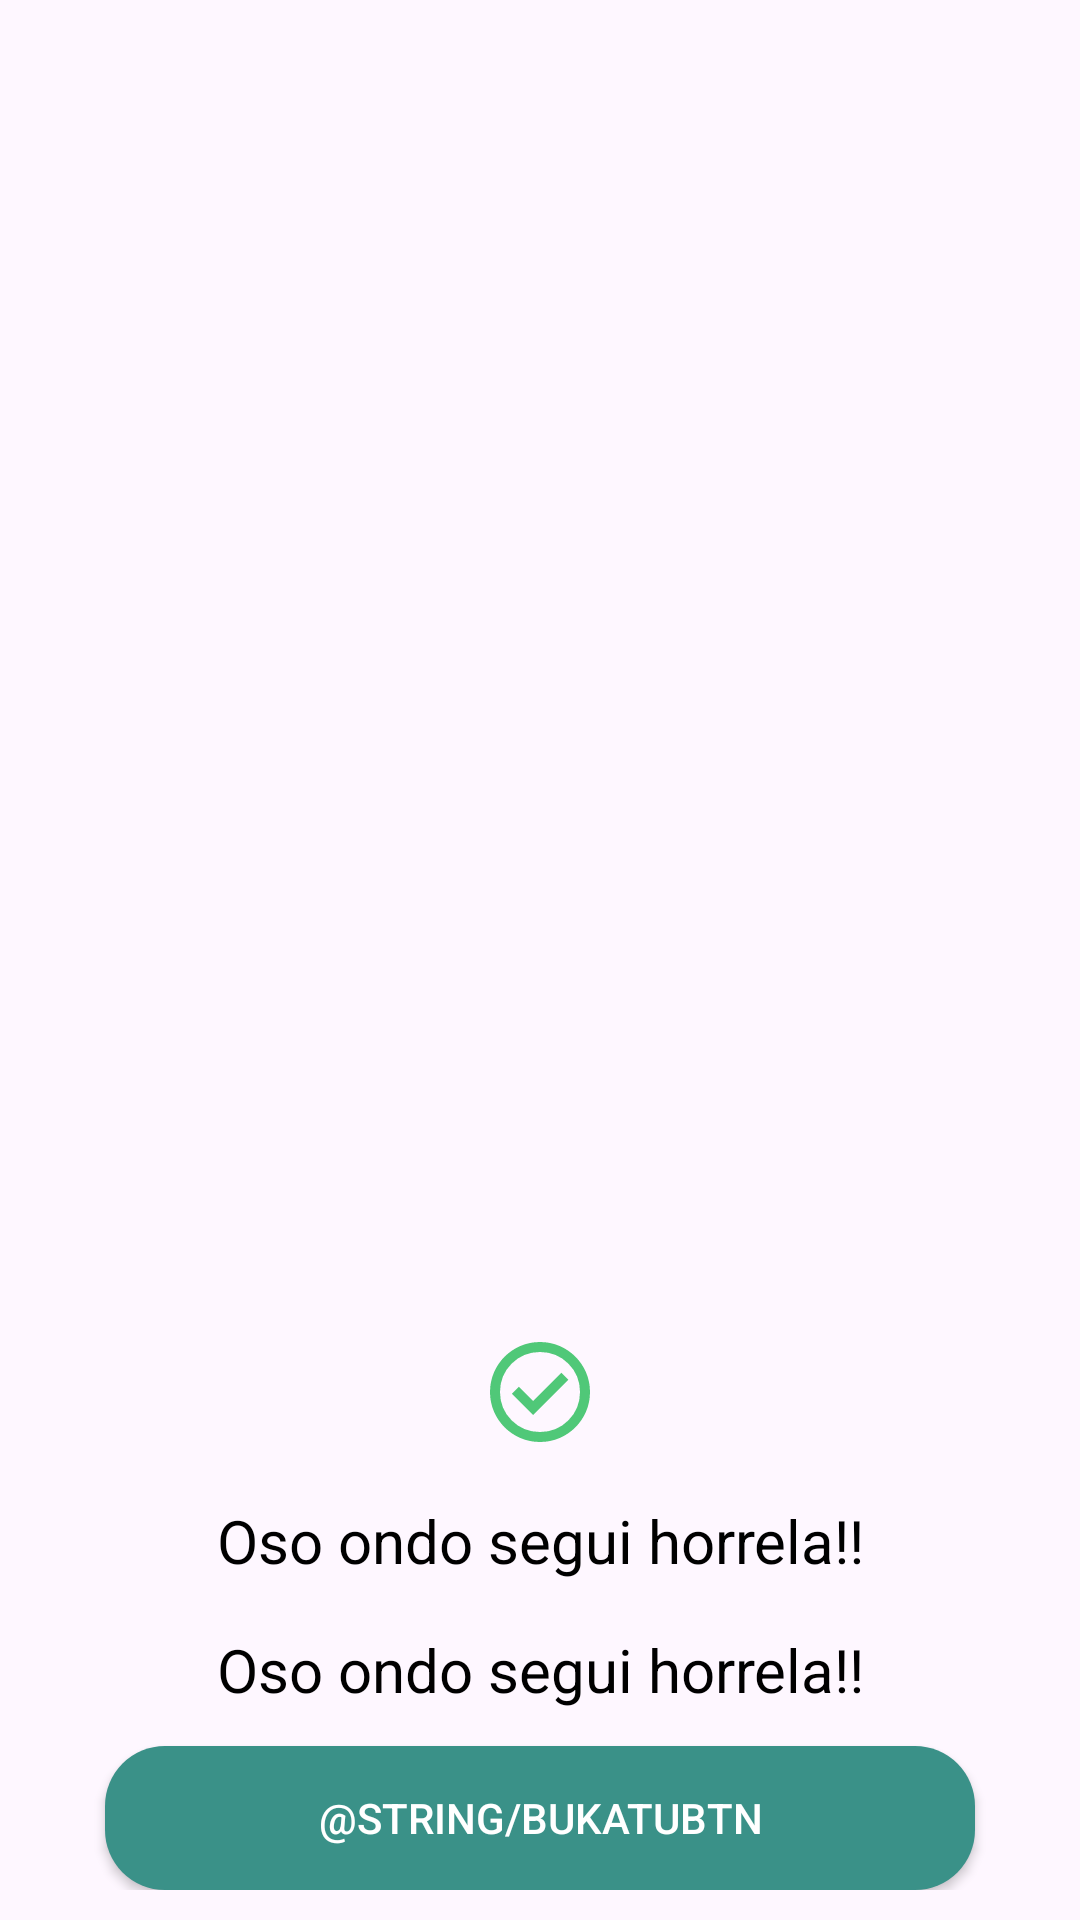

Point at icon controls on the screen. Image size 1080px×1920px, points as [x,y].
check circle: [540,1392]
